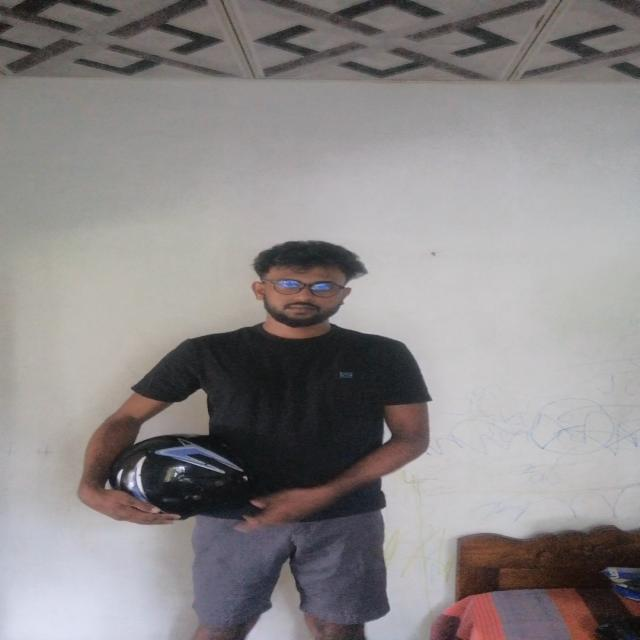Person: (80, 229, 437, 640)
